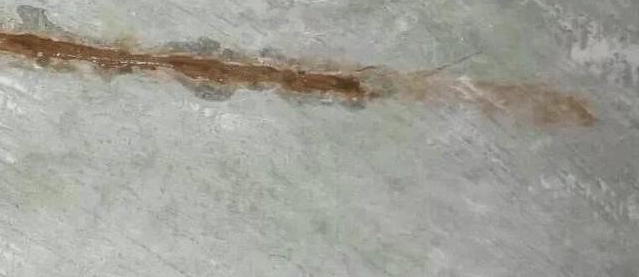Exposed reinforcement: (1, 31, 360, 94)
